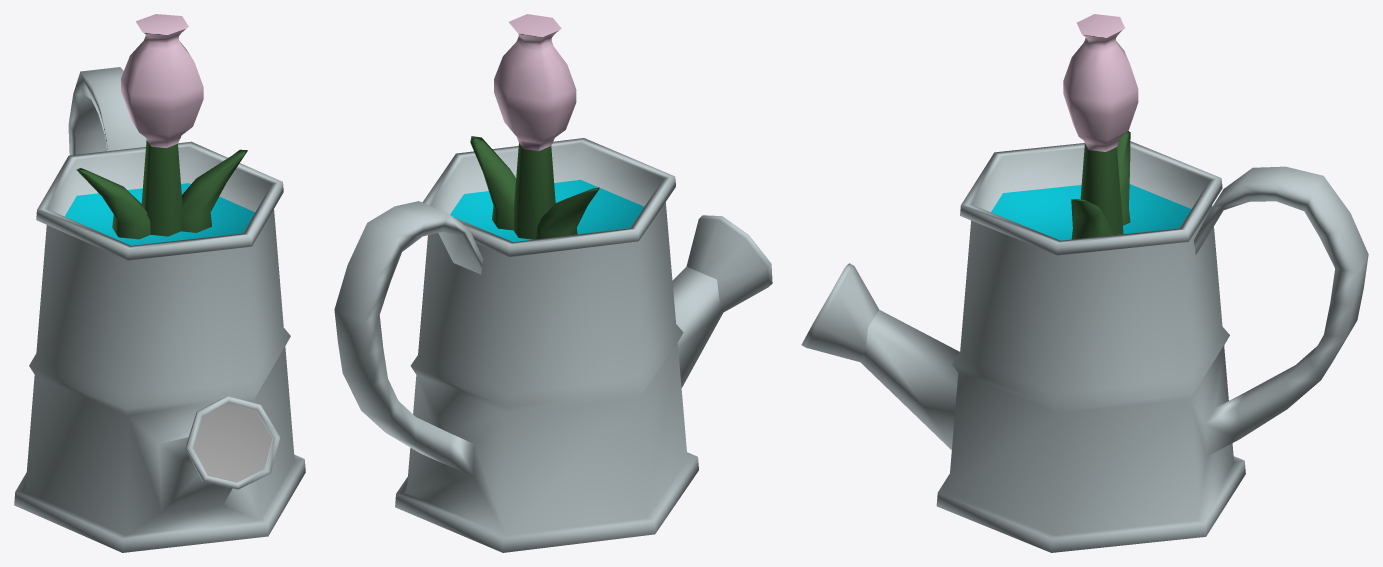
File: WateringCan.fbx
3 views of the same model, side by side, from view 1: azimuth 30°, elevation 25°; view 2: azimuth 150°, elevation 25°; view 3: azimuth 270°, elevation 25° (orthographic).
Parts seen in each view (by area): view 1: WateringCan, TulipStem, TulipStem1, TulipStem2; view 2: WateringCan, TulipStem, TulipStem1, TulipStem2; view 3: WateringCan, TulipStem, TulipStem1, TulipStem2.
Boxes of the visible parts, x1,y1,x2,y2 form: WateringCan: (14,67,305,552); TulipStem: (121,14,203,236); TulipStem1: (181,149,247,232); TulipStem2: (76,168,150,239); WateringCan: (334,138,772,552); TulipStem: (494,14,576,239); TulipStem1: (470,136,515,230); TulipStem2: (536,187,599,239); WateringCan: (801,141,1368,552); TulipStem: (1063,14,1138,234); TulipStem1: (1071,199,1113,239); TulipStem2: (1117,130,1130,225).
Bounding box in the file's own units: 28.46 × 49.54 × 54.33.
Materials: 5 (3 with a texture image).
